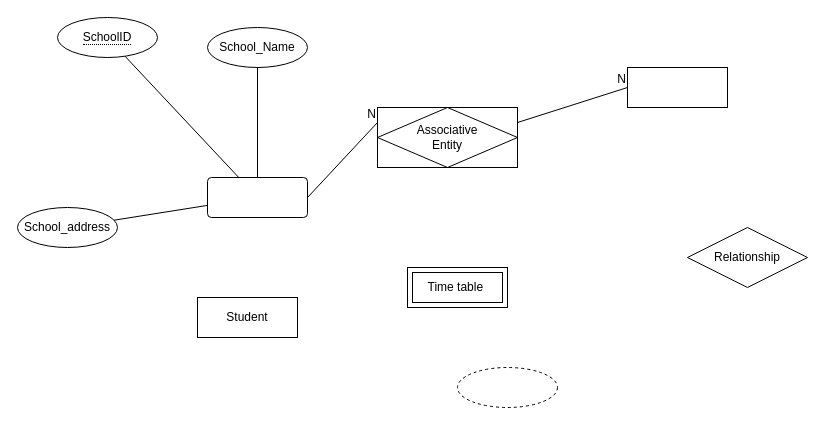
Some shapes in this 825 by 425 pixel diagram are drawn without their labels. Here are the shapes that lost their labels. From the top down, the box of each, then its label:
(626, 66, 728, 108): Class
(206, 176, 308, 218): School
(456, 366, 558, 408): Attribute
